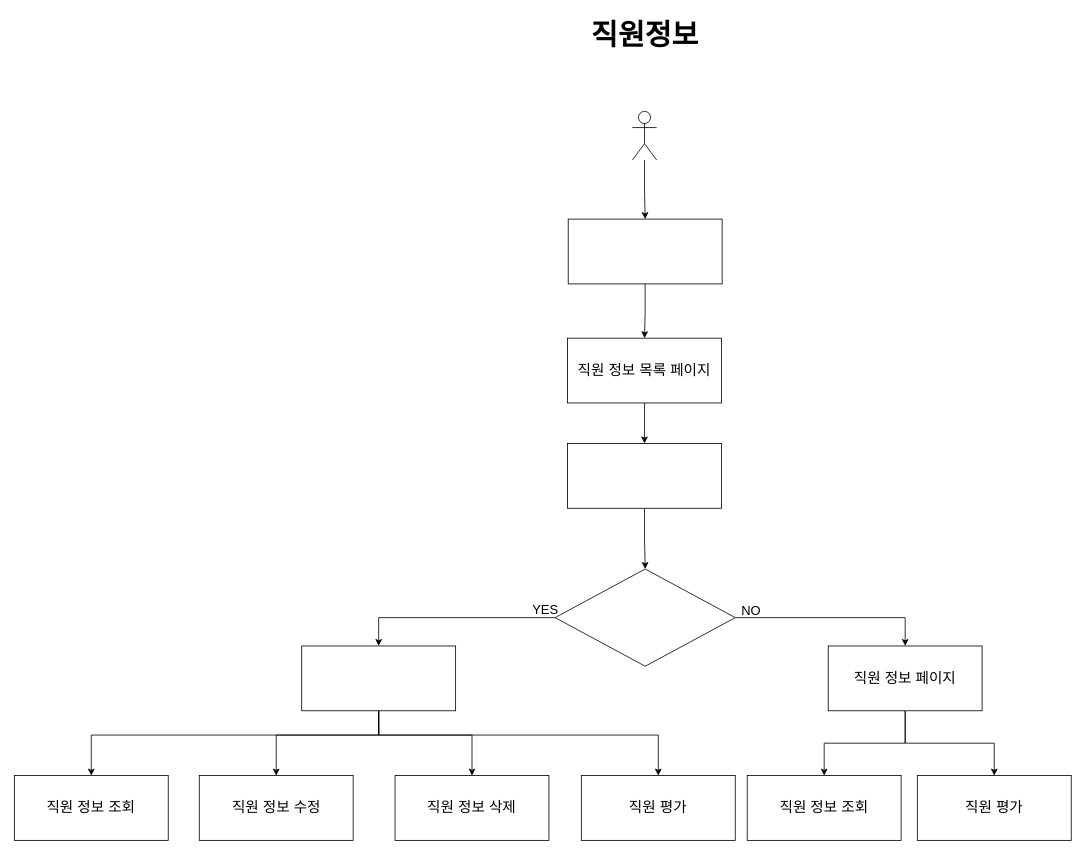
Some shapes in this 1085 by 855 pixel diagram are drawn without their labels. The centre of each missing label's shape, as x and y in pixels:
관리자 계정인가?: [644,617]
로그인: [644,251]
직원 관리 페이지: [378,678]
특정 직원 선택: [644,475]
